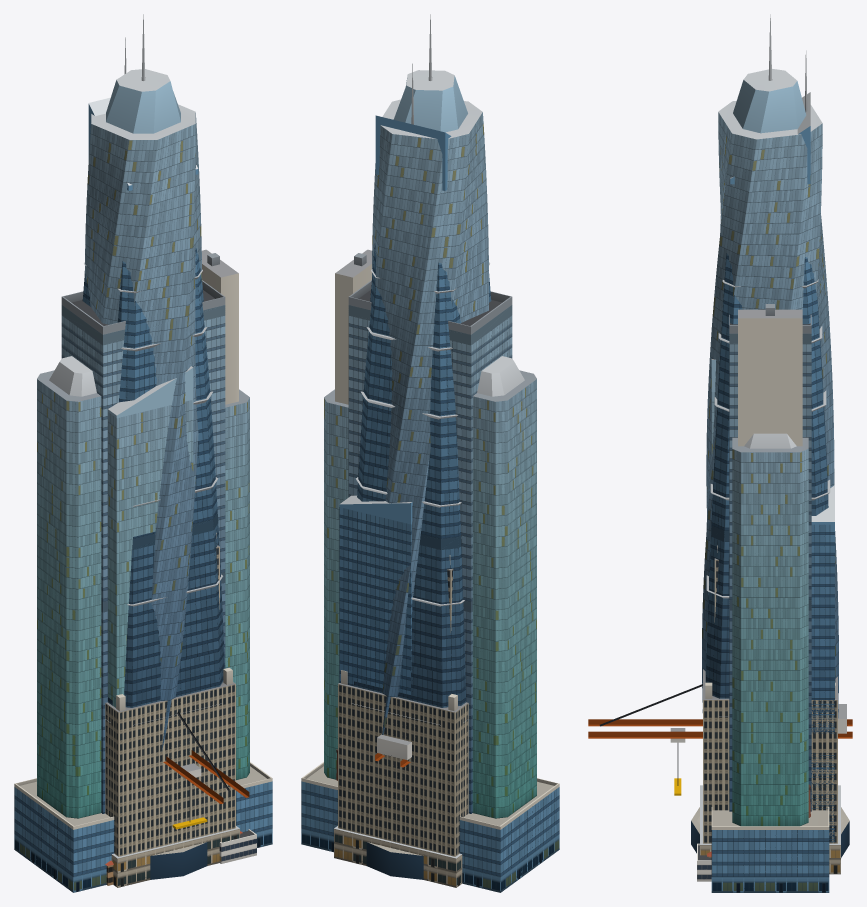
Rendered from kit.glb.
3 views of the same model, side by side, from view 1: azimuth 30°, elevation 25°; view 2: azimuth 150°, elevation 25°; view 3: azimuth 270°, elevation 25° (orthographic).
Parts seen in each view (by area): view 1: tower_twin, tower_twist, tower_taper, tower_deco_a, tower_glass_a, tower_glass_b, tower_crown, ind_gantry, ind_warehouse_a; view 2: tower_twin, tower_twist, tower_taper, tower_deco_a, tower_glass_a, tower_glass_b, tower_crown, ind_gantry; view 3: tower_twin, tower_twist, tower_glass_a, tower_taper, tower_deco_a, tower_glass_b, ind_gantry, tower_crown.
Boxes of the visible parts, x1,y1,x2,y2 form: tower_twin: (14,356,272,892); tower_twist: (84,69,207,879); tower_taper: (82,37,224,707); tower_deco_a: (105,533,235,856); tower_glass_a: (61,249,238,813); tower_glass_b: (108,366,193,707); tower_crown: (84,14,239,887); ind_gantry: (163,711,249,829); ind_warehouse_a: (219,829,256,863); tower_twin: (301,356,559,892); tower_twist: (366,70,488,879); tower_taper: (354,63,491,707); tower_deco_a: (338,555,468,856); tower_glass_a: (335,249,512,813); tower_glass_b: (339,495,412,694); tower_crown: (334,14,489,887); ind_gantry: (375,734,411,767); tower_twin: (711,433,829,892); tower_twist: (691,69,849,857); tower_glass_a: (729,304,811,811); tower_taper: (705,50,835,698); tower_deco_a: (703,545,837,843); tower_glass_b: (711,359,834,842); ind_gantry: (588,684,852,795); tower_crown: (700,14,840,874).
Size of the model in its own units: 78 by 320 by 90.
1 material, 1 textured.
